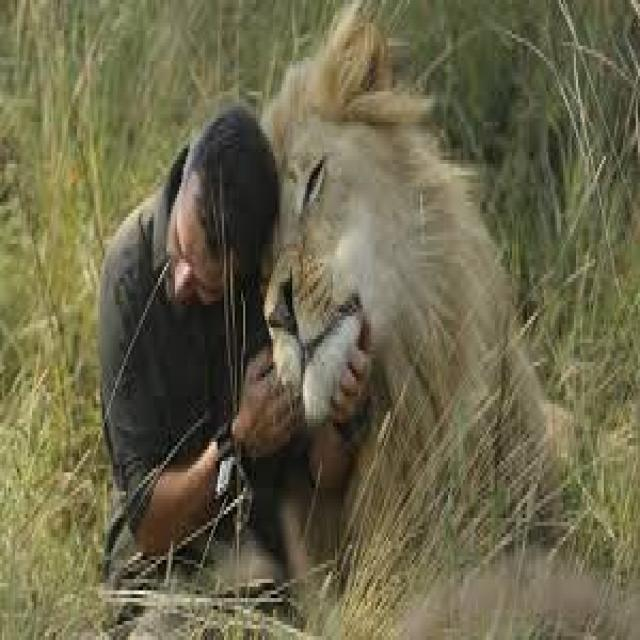Lion: (259, 5, 607, 632)
